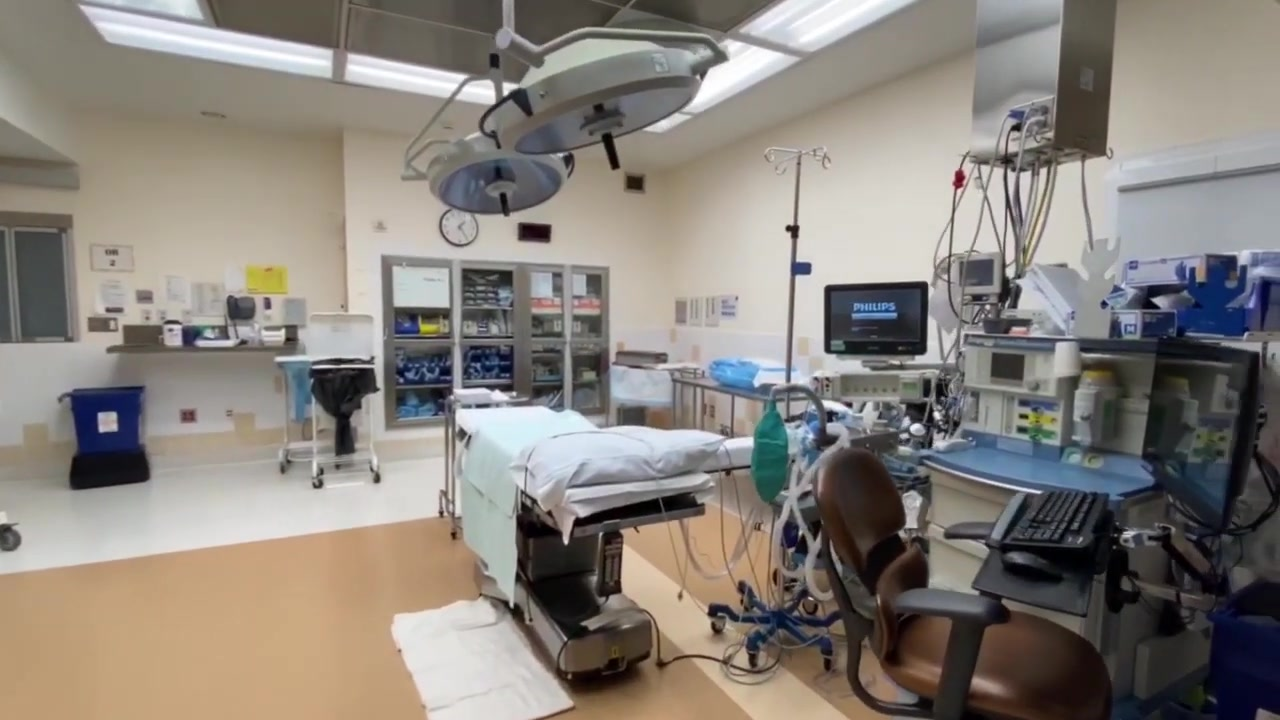bedside_monitor: (823, 281, 930, 356), (952, 250, 1006, 304)
breathing_tube: (770, 421, 849, 602)
cabinet: (378, 251, 615, 426)
chair: (813, 448, 1115, 720)
computer: (1140, 335, 1261, 534)
iv_pole: (764, 145, 832, 610)
keyboard: (999, 489, 1109, 553)
medical_drawer: (922, 441, 1166, 628)
mouse: (1001, 551, 1063, 582)
operating_bed: (455, 406, 716, 678)
surgical_light: (498, 39, 702, 170), (426, 131, 574, 217)
telephone: (226, 295, 256, 321)
utility_cart: (678, 374, 794, 450)
waste_bin: (306, 353, 384, 487), (68, 386, 152, 490)
